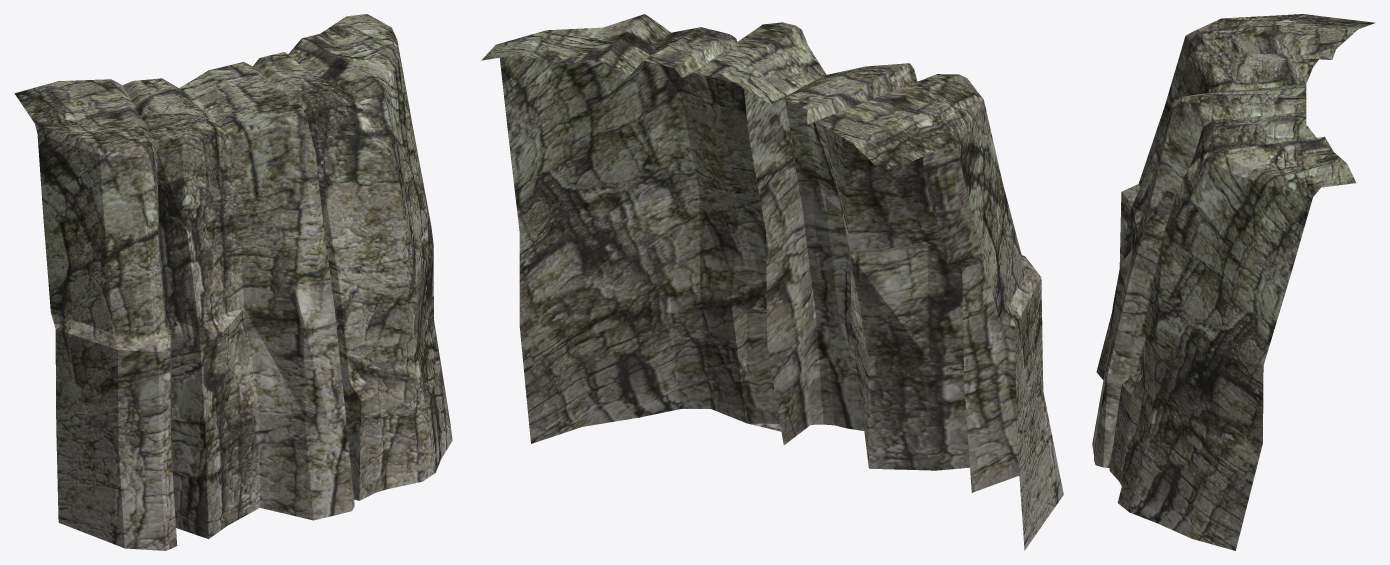
The model's file is temp_cliffs_a_1.glb.
3 views of the same model, side by side, from view 1: azimuth 30°, elevation 25°; view 2: azimuth 150°, elevation 25°; view 3: azimuth 270°, elevation 25° (orthographic). The views are drawn at different scales.
Visible parts, largest first — view 1: temp_cliffs_a_1; view 2: temp_cliffs_a_1; view 3: temp_cliffs_a_1.
Part boxes in pixels (x1=…): temp_cliffs_a_1: x1=14, y1=14, x2=452, y2=550; temp_cliffs_a_1: x1=481, y1=14, x2=1063, y2=550; temp_cliffs_a_1: x1=1092, y1=14, x2=1375, y2=550.
Bounding box in the file's own units: 9.2 × 8.25 × 5.8.
1 material, 1 textured.
